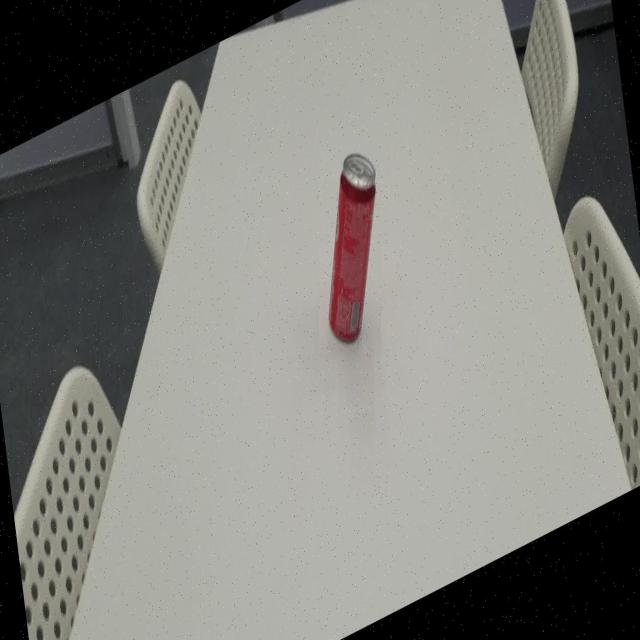coca-cola: (319, 144, 382, 354)
